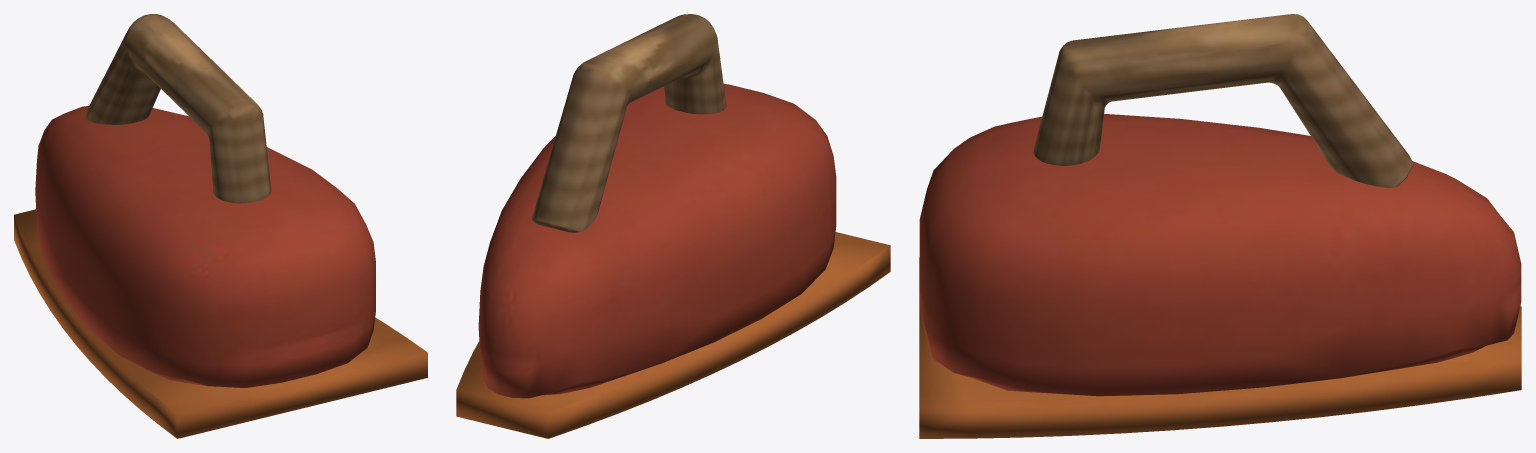
The model's file is giant_iron.glb.
The picture shows the model from 3 angles, left to right: view 1: azimuth 30°, elevation 25°; view 2: azimuth 150°, elevation 25°; view 3: azimuth 270°, elevation 25°; orthographic projection. The views are drawn at different scales.
Parts seen in each view (by area): view 1: prop_giant_iron_felt, prop_giant_iron_felt_heat, prop_giant_iron_wood; view 2: prop_giant_iron_felt, prop_giant_iron_wood, prop_giant_iron_felt_heat; view 3: prop_giant_iron_felt, prop_giant_iron_wood, prop_giant_iron_felt_heat.
Boxes of the visible parts, x1,y1,x2,y2 form: prop_giant_iron_felt: (35,106,375,387); prop_giant_iron_felt_heat: (14,209,427,438); prop_giant_iron_wood: (86,14,271,203); prop_giant_iron_felt: (478,83,836,398); prop_giant_iron_wood: (532,14,726,232); prop_giant_iron_felt_heat: (456,232,890,438); prop_giant_iron_felt: (919,114,1521,396); prop_giant_iron_wood: (1033,14,1412,187); prop_giant_iron_felt_heat: (919,257,1521,438).
Size of the model in its own units: 0.624 by 0.6688 by 1.06.
Materials: 3 (3 with a texture image).
